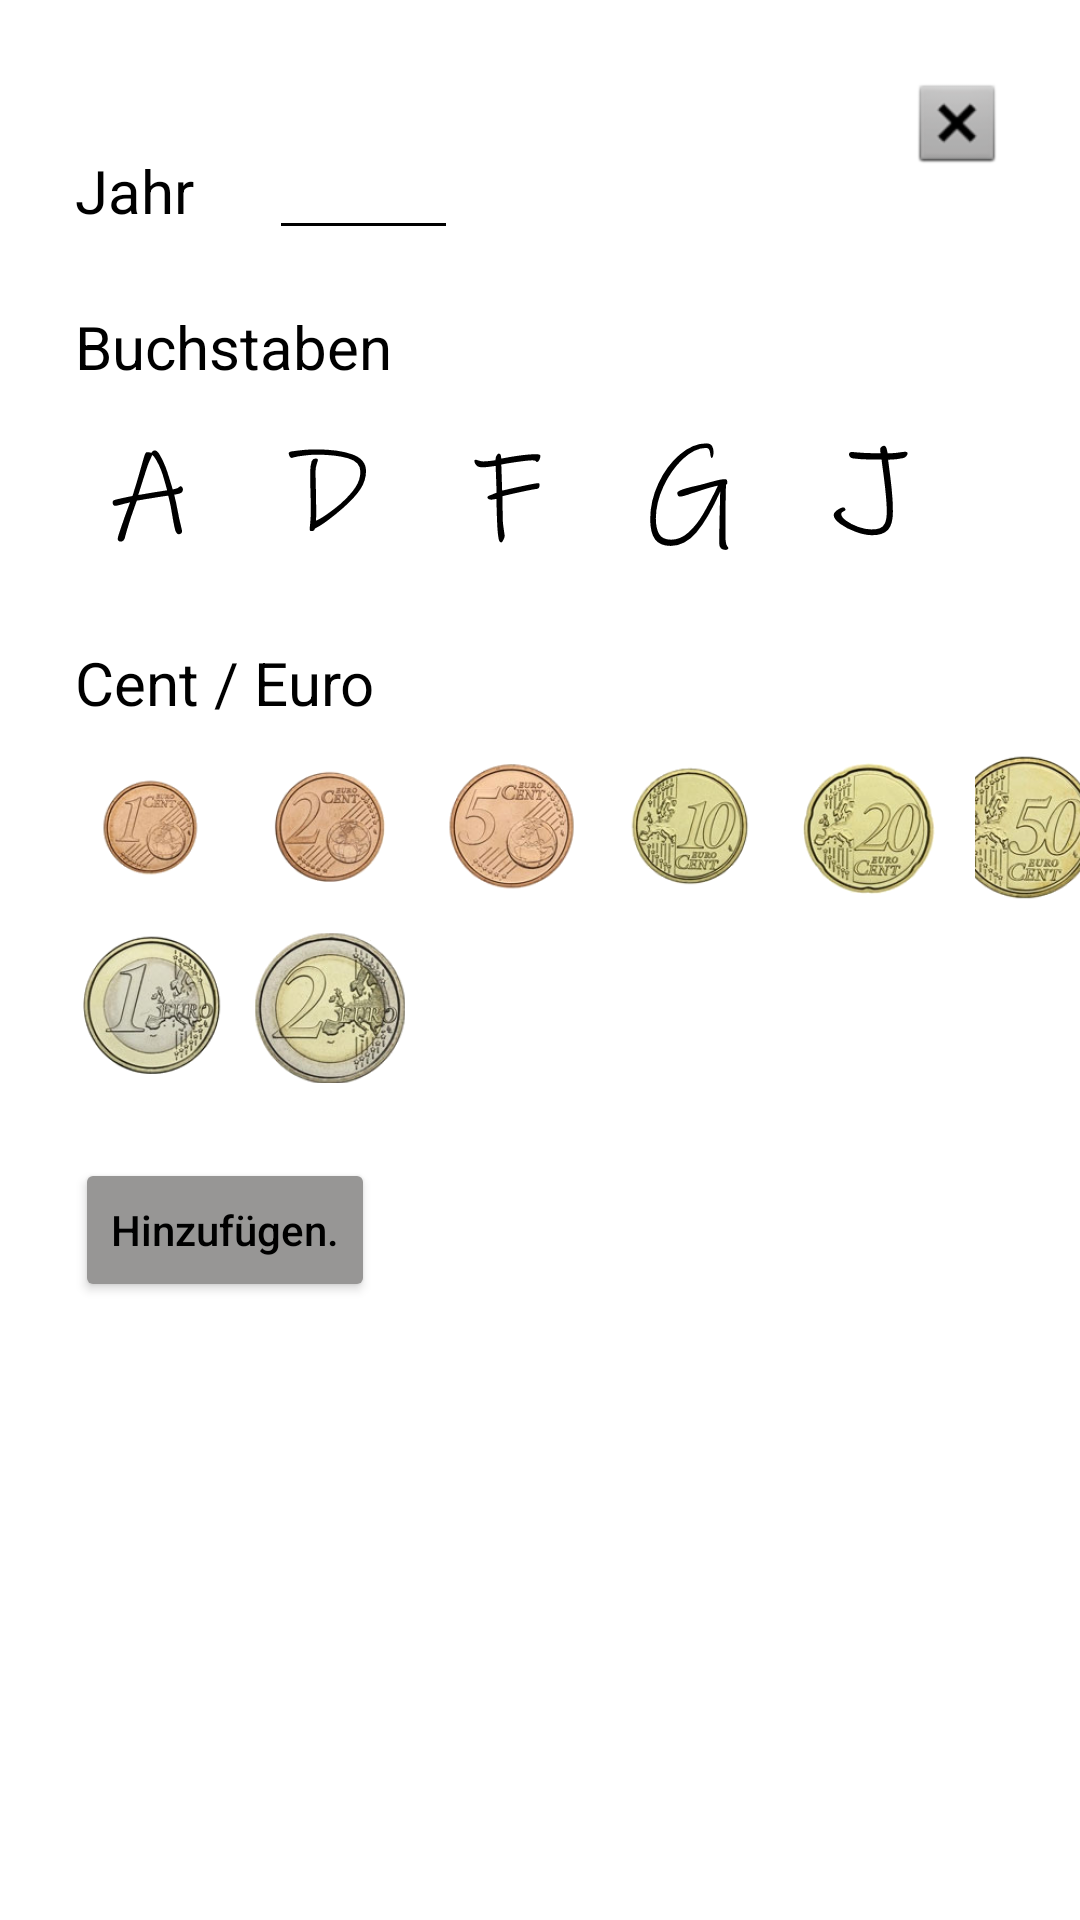

Icon click points for this 1080×1920 phone screenshot, format (x,y):
coin fifty: (1027,827)
coin five: (511,826)
coin ii: (330,1008)
coin one: (150,827)
coin ten: (690,826)
coin twenty: (868,829)
coin two: (330,827)
letter: (689,496), (870,490), (327,490), (147,496), (507,498)
